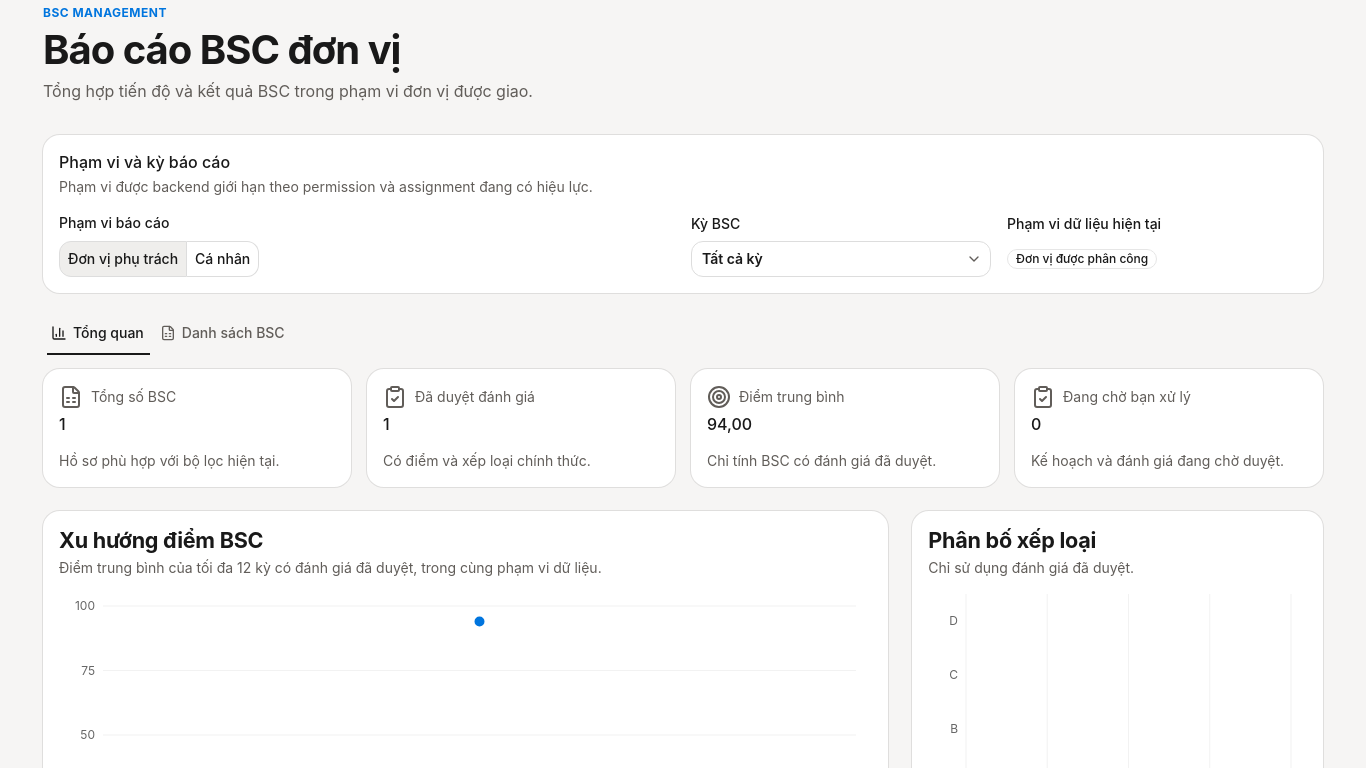
Scenario: BscReportPage desktop report › shows export only for the selected scope capability
The image size is (1366, 768).
Expected: the element named "Phạm vi báo cáo" is shown, [59, 241, 259, 277]
Expected: the button "Xuất Excel" is not shown
Click the radio button labelled "Cá nhân".
click(223, 259)  # box [187, 241, 259, 277]
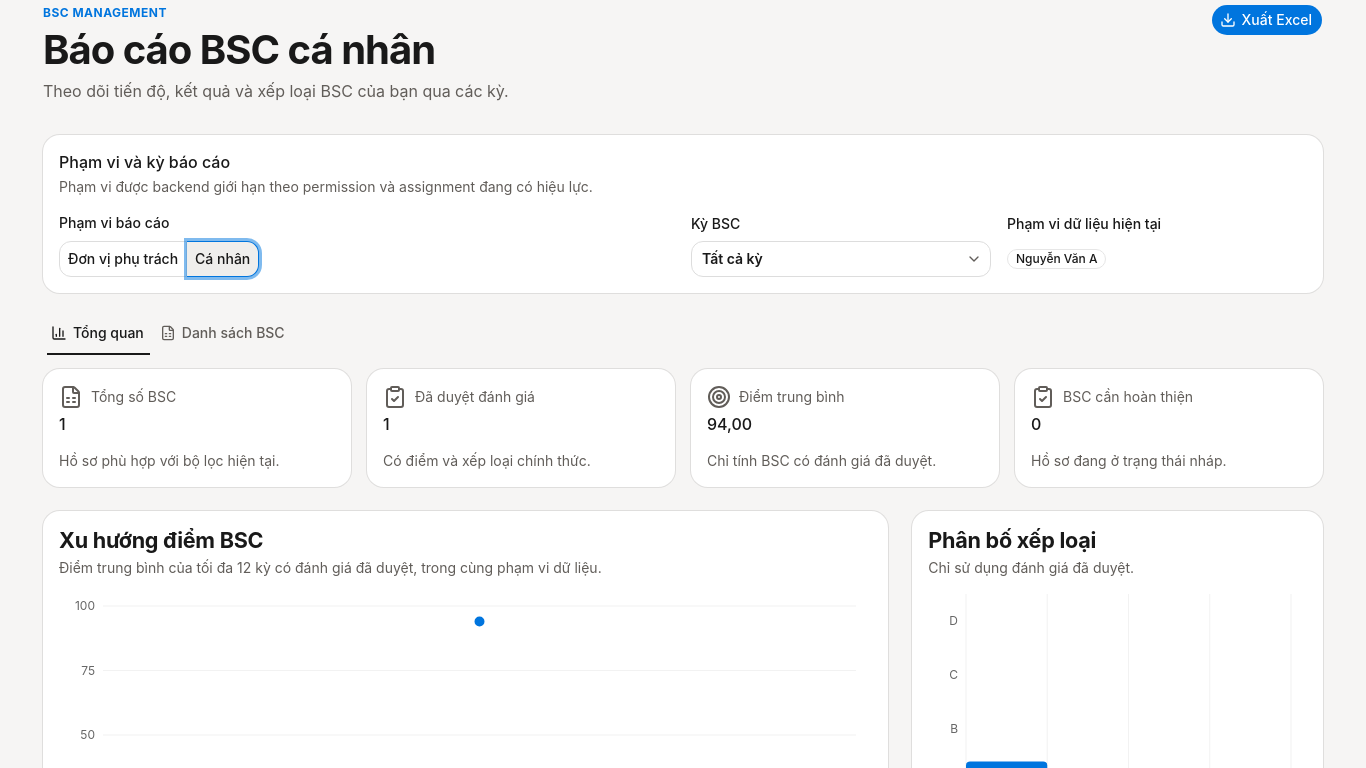
Expected: the button "Xuất Excel" is shown, [1210, 4, 1323, 36]
